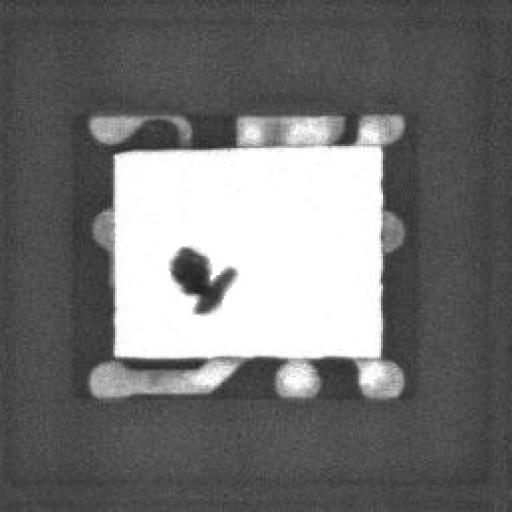DIE_INK: (159, 254, 226, 327)
